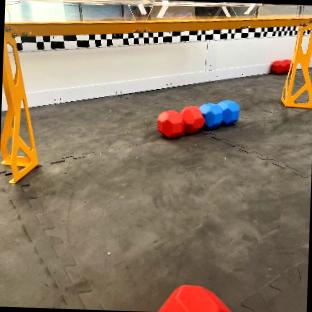Goal: (0, 0, 312, 182)
V5_BLUE: (200, 100, 239, 129)
V5_RED: (160, 286, 229, 312), (157, 106, 204, 139), (272, 61, 291, 74)
